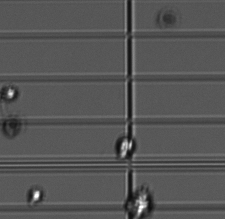Dead Cell: (126, 189, 153, 216), (3, 116, 25, 138), (158, 7, 180, 28)
Living Cell: (116, 136, 135, 159), (28, 186, 43, 204), (2, 85, 18, 101)
